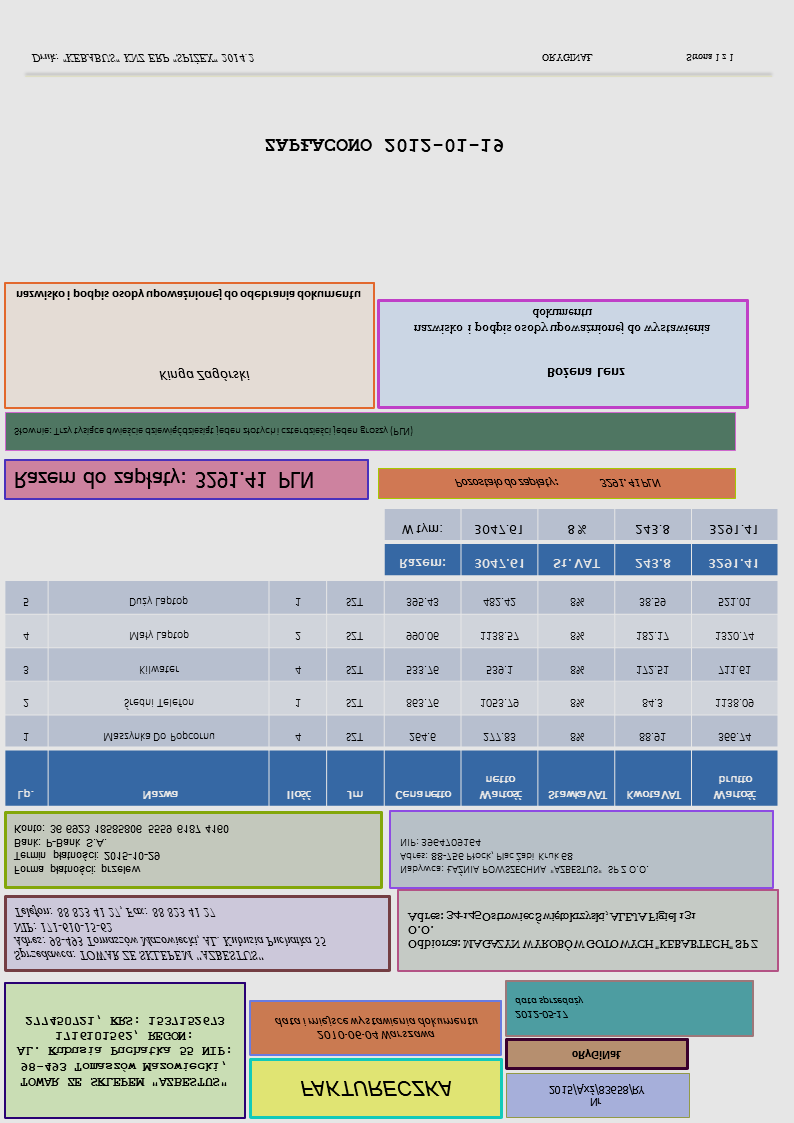Table: (4, 580, 779, 808), (383, 508, 778, 578)
TextBox: (12, 906, 327, 965), (14, 1015, 232, 1089), (405, 908, 759, 952), (12, 822, 232, 877), (396, 835, 651, 878), (413, 306, 711, 337), (13, 469, 315, 493), (13, 423, 415, 439), (13, 287, 360, 305), (272, 1015, 481, 1042), (263, 136, 505, 156), (29, 50, 257, 67), (452, 474, 663, 492), (298, 1078, 454, 1101), (540, 50, 735, 65), (547, 1083, 647, 1110), (513, 995, 584, 1022), (156, 366, 251, 386), (545, 364, 628, 381), (570, 1048, 623, 1063)
